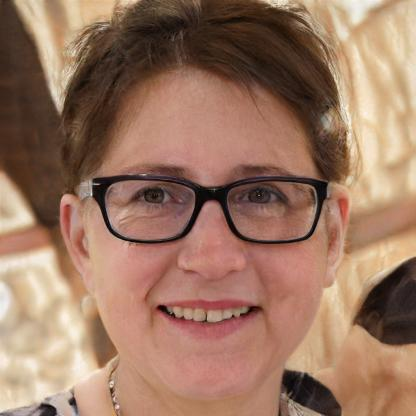glasses: (83, 166, 331, 249)
